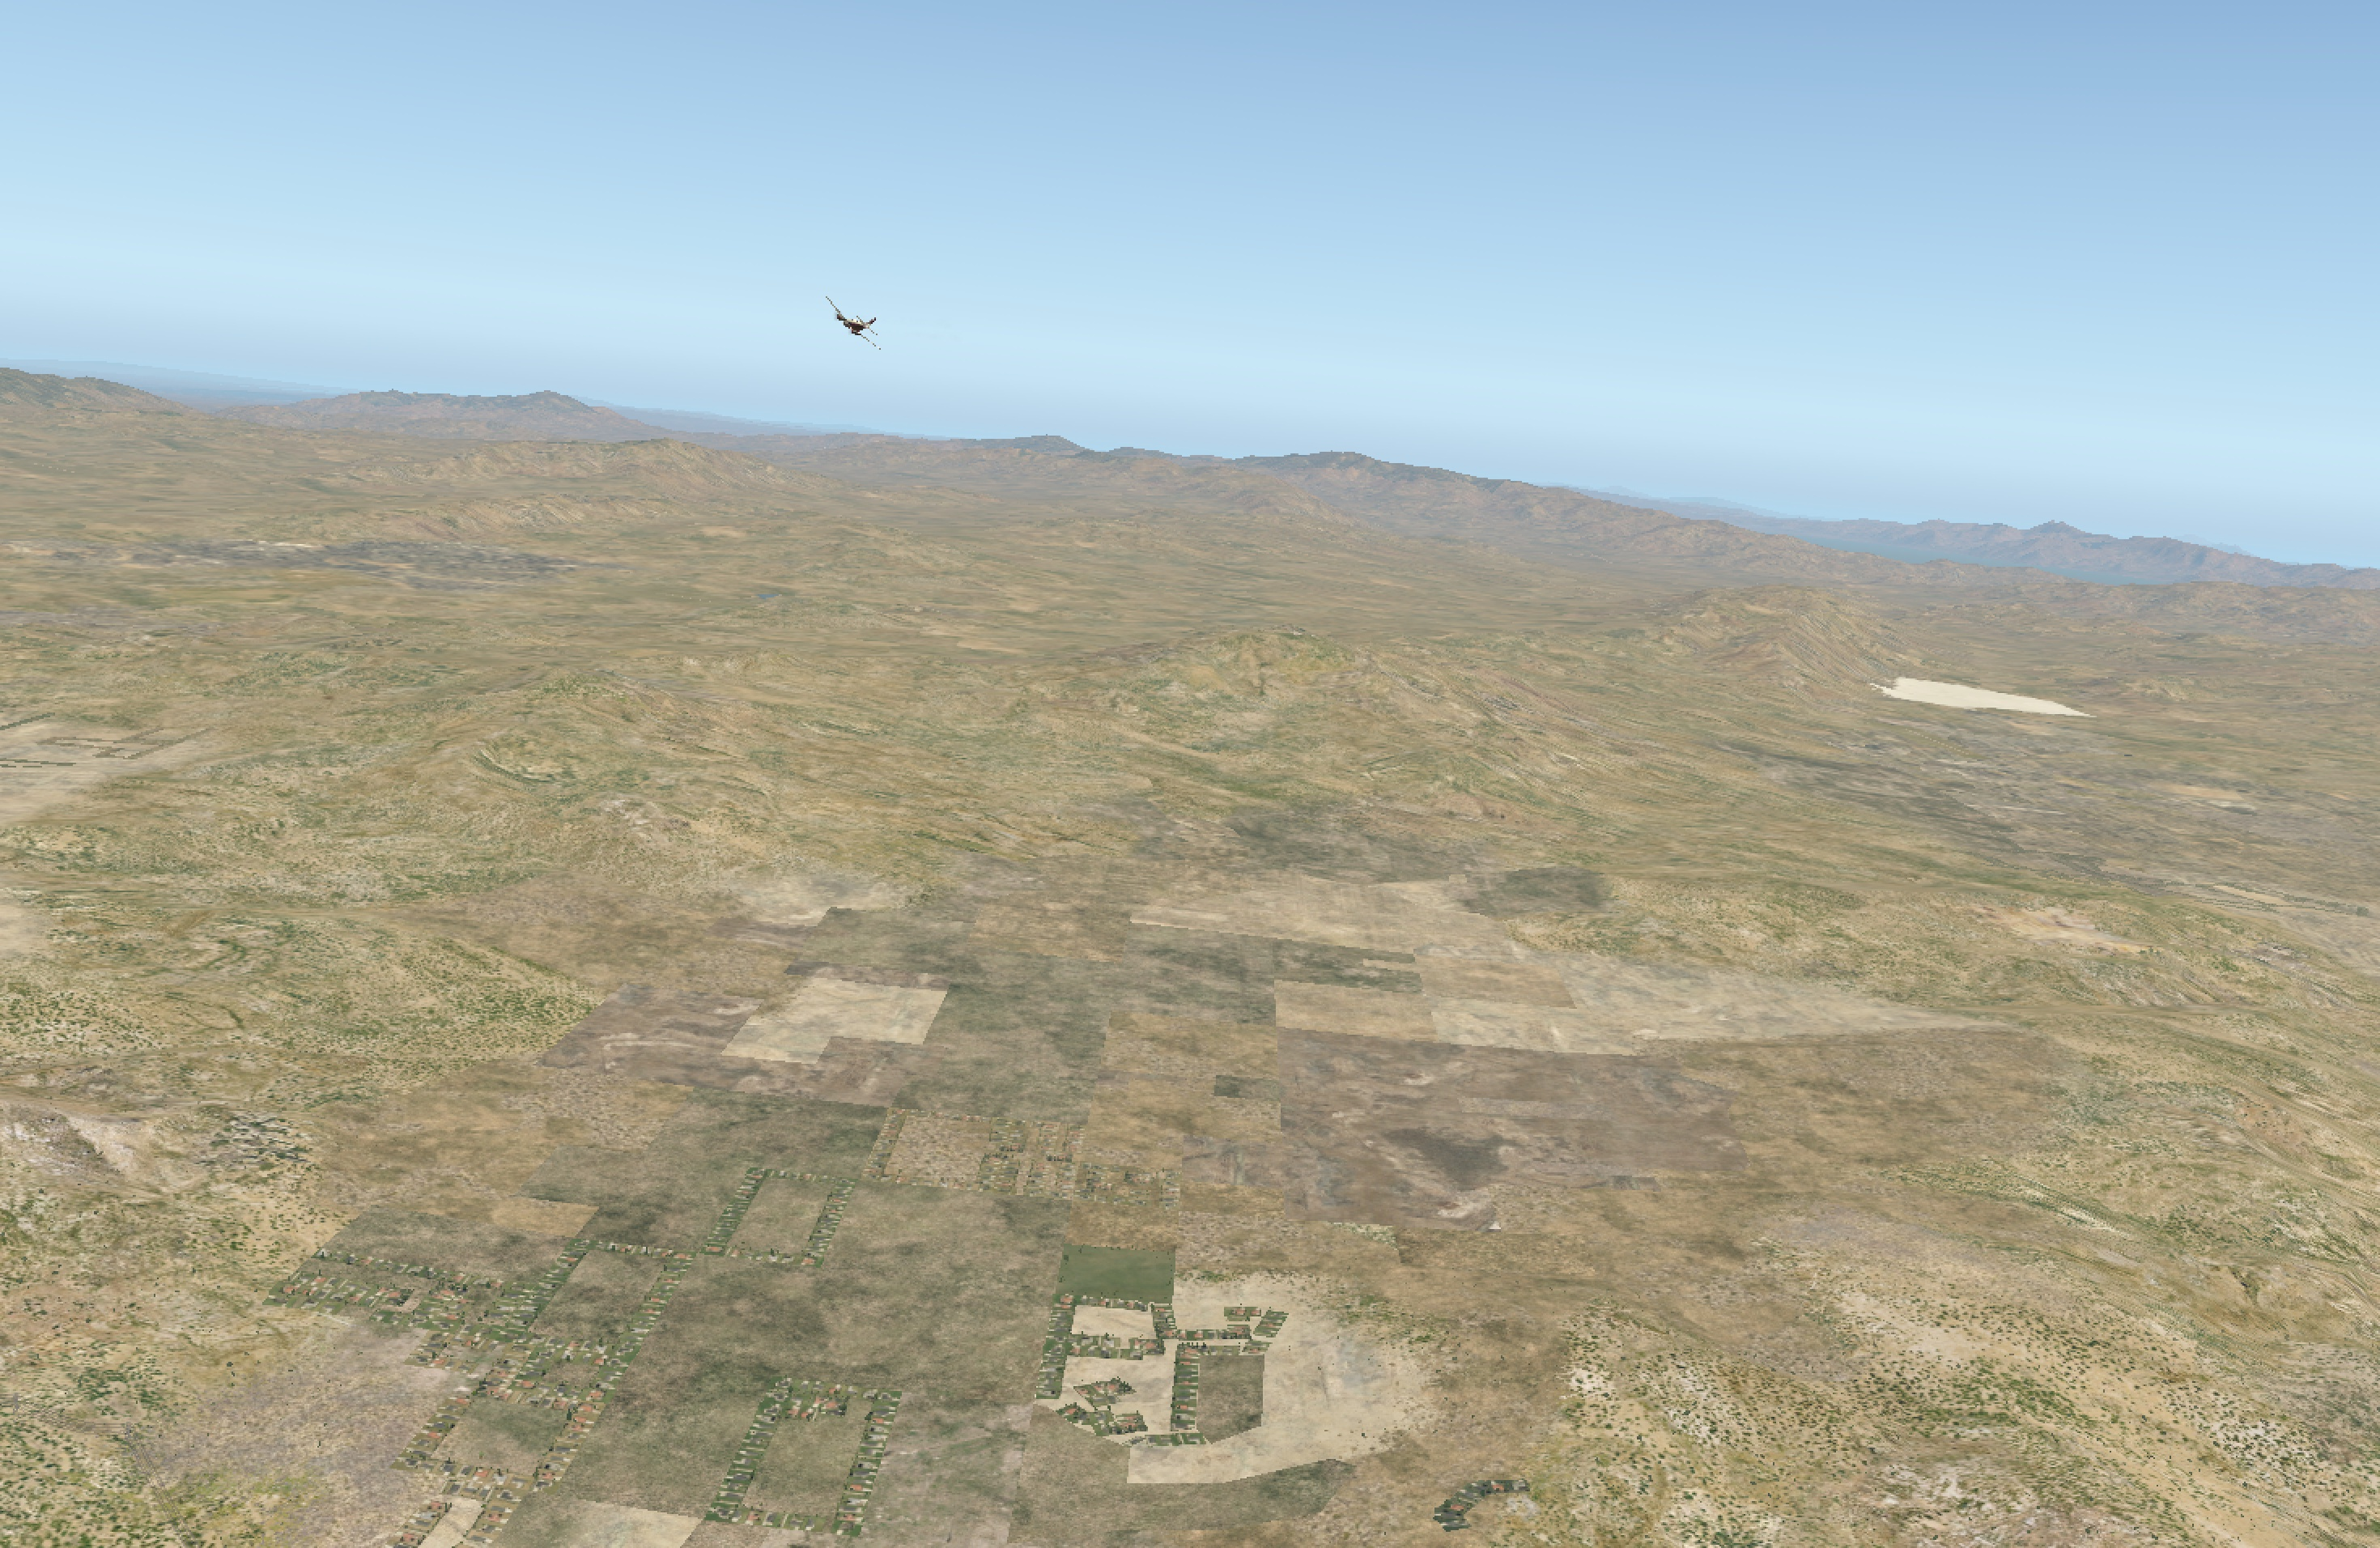aircraft: (808, 311, 890, 342)
